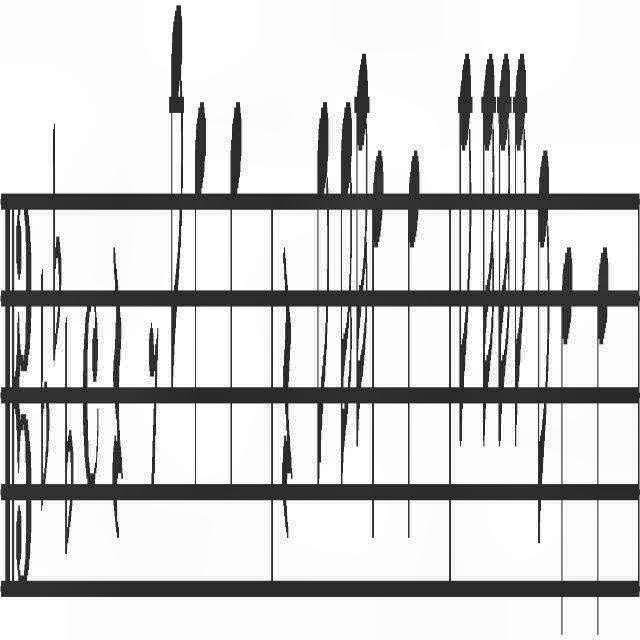Bemol: (64, 293, 76, 562), (39, 249, 50, 511), (52, 118, 62, 366)
Eighth-note: (512, 23, 528, 460), (316, 91, 332, 497), (456, 46, 472, 434), (536, 124, 550, 558), (168, 0, 183, 392)
Eighth-rest: (148, 308, 160, 508)
Quarter-note: (228, 86, 244, 494), (594, 232, 610, 640), (408, 134, 420, 562), (372, 135, 384, 545), (560, 238, 572, 640), (194, 98, 206, 498)
Quarter-rest: (281, 228, 295, 548), (112, 242, 124, 550)
Sixteenth-note: (480, 20, 496, 464), (496, 36, 512, 460), (354, 39, 370, 457), (340, 93, 352, 487)
